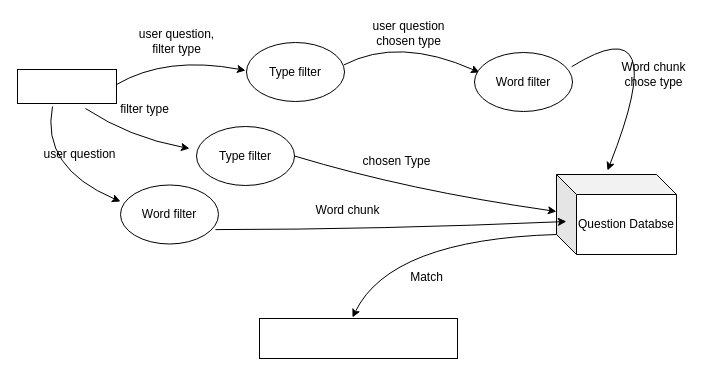
The diagram is 708 pixels wide and 376 high, and some of its shapes have lost their labels. Here are the shapes that lost their labels. From the top down, the centre of each, then its label:
point (66, 86): user input
point (358, 338): Display relevant result
